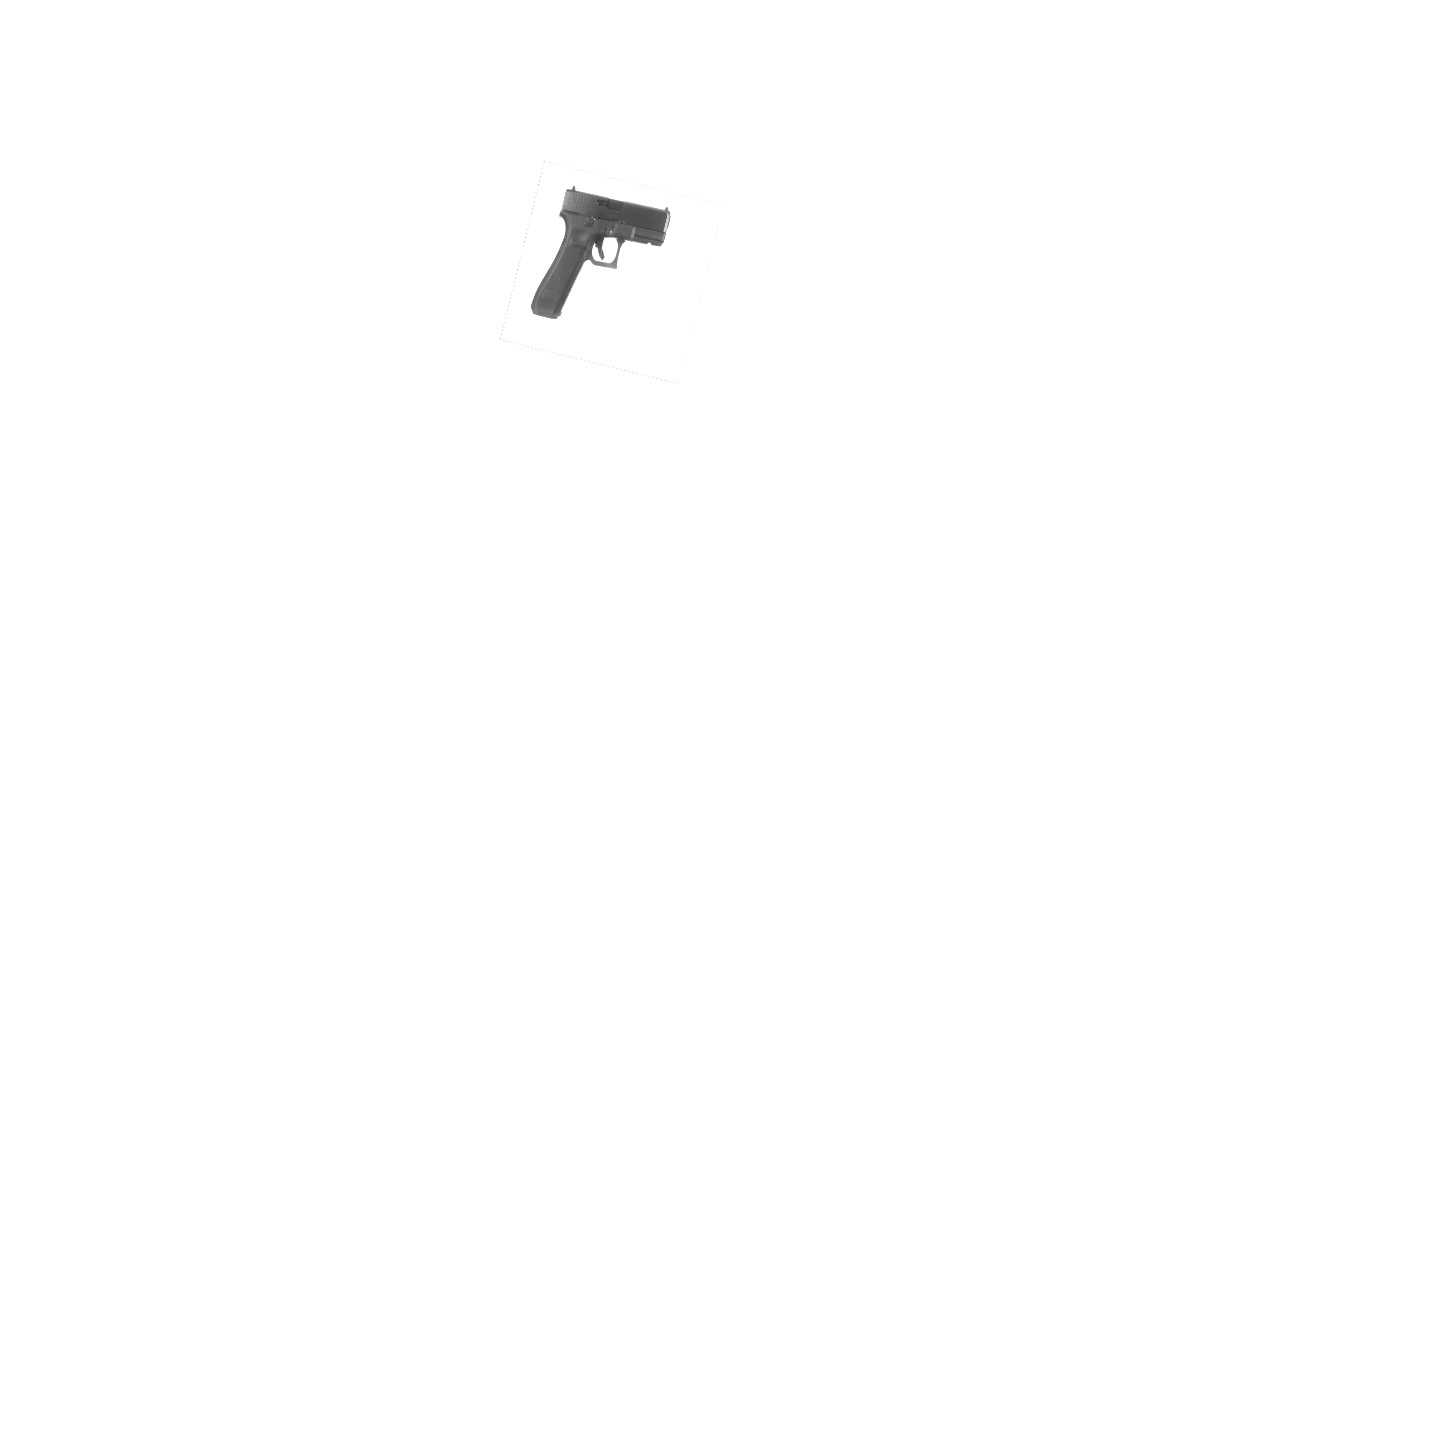gun: (531, 184, 670, 320)
